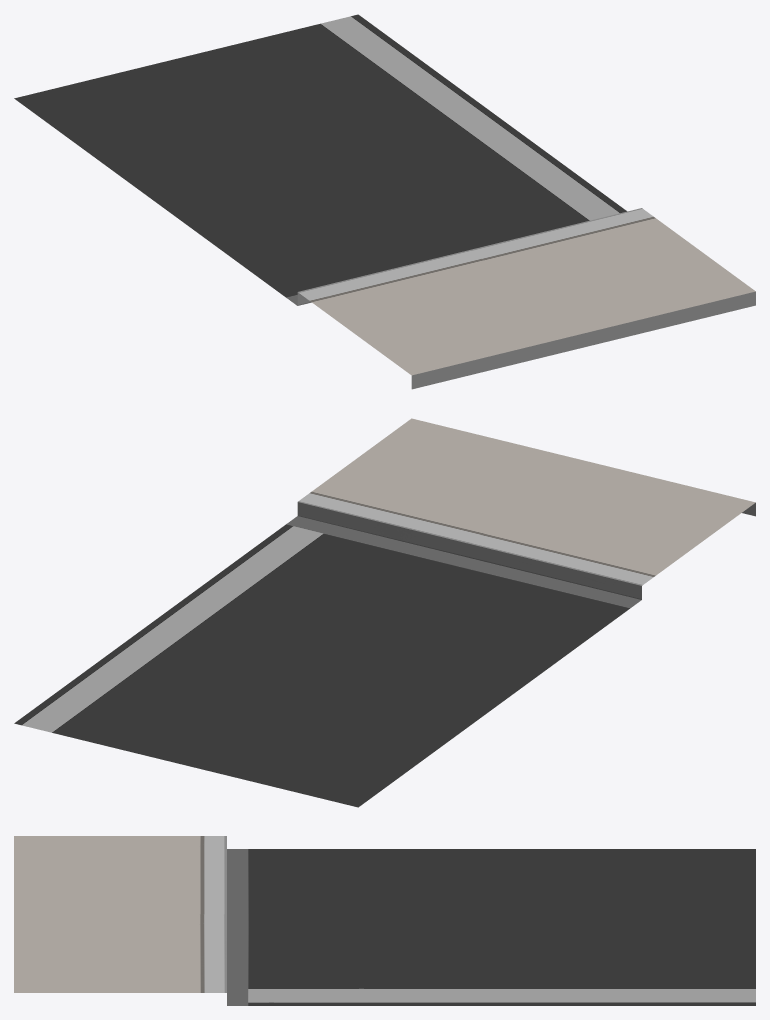
File: road_stop_mesh.FBX
The picture shows the model from 3 angles, top to bottom: view 1: azimuth 30°, elevation 25°; view 2: azimuth 150°, elevation 25°; view 3: azimuth 270°, elevation 25°; orthographic projection. The views are drawn at different scales.
Visible parts, largest first — view 1: road_stop_mesh; view 2: road_stop_mesh; view 3: road_stop_mesh.
Part boxes in pixels (x1,y1,x2,y2): road_stop_mesh: (14, 14, 755, 389); road_stop_mesh: (14, 418, 755, 807); road_stop_mesh: (14, 836, 755, 1005).
Size of the model in its own units: 0.05 by 0.1 by 0.00195.
